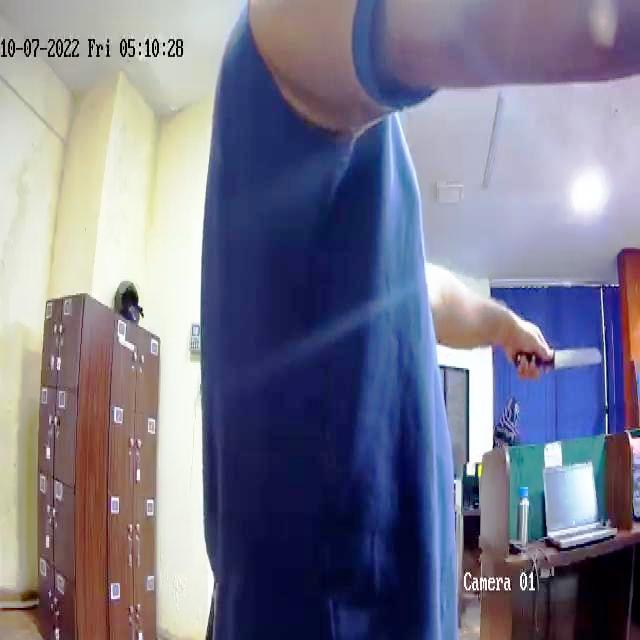Knife: (512, 332, 604, 378)
